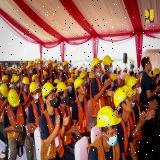Helmet: (96, 107, 122, 129), (114, 88, 130, 108), (8, 89, 22, 108), (42, 82, 55, 98), (126, 74, 139, 90), (56, 81, 70, 95), (91, 56, 103, 70), (104, 54, 115, 66), (74, 77, 84, 90), (0, 84, 9, 98), (30, 83, 40, 93), (61, 59, 70, 68), (22, 76, 30, 86), (2, 75, 9, 82), (31, 74, 38, 81), (14, 76, 20, 83)
Vest: (41, 110, 64, 160), (7, 102, 26, 144), (59, 106, 76, 146), (90, 78, 105, 117), (74, 96, 89, 134), (29, 99, 45, 134), (102, 71, 114, 107)
